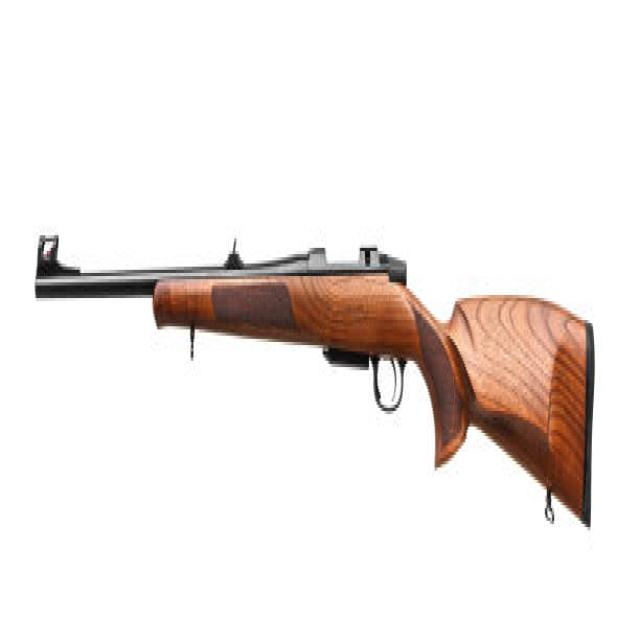rifle: (30, 218, 600, 544)
